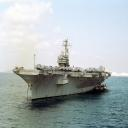Portanaves: (14, 35, 113, 104)
